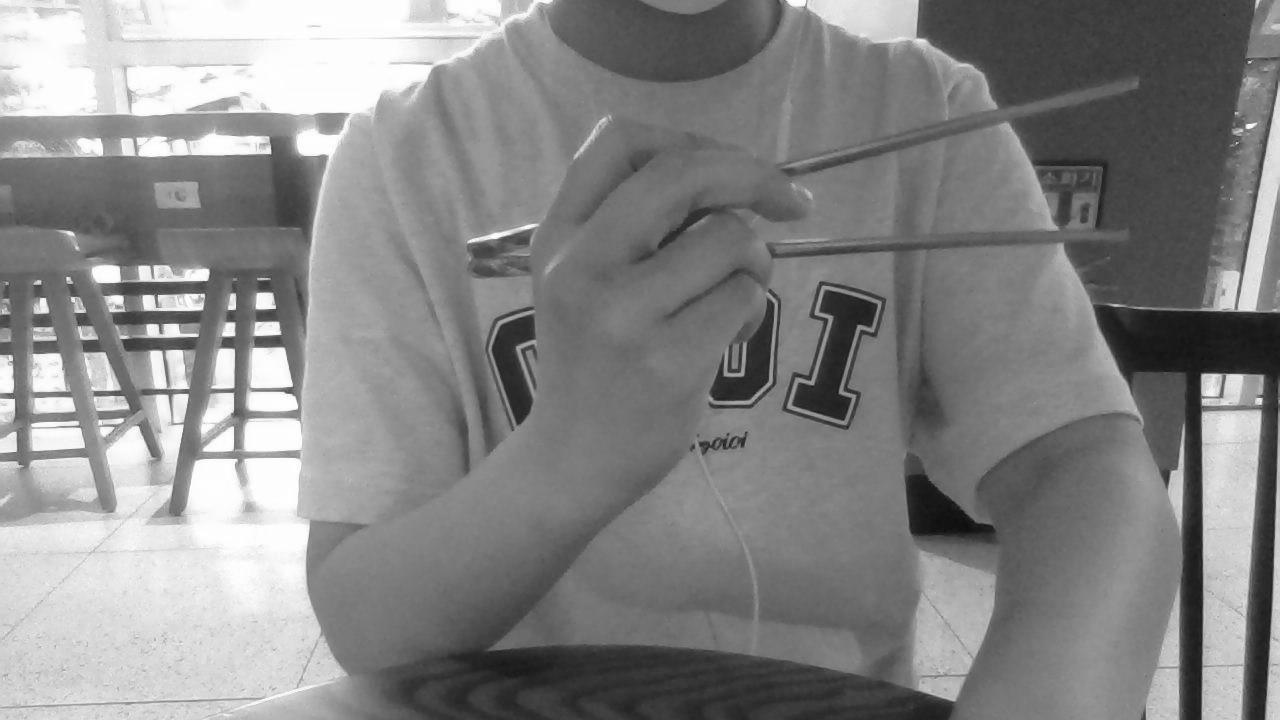chopstick: (469, 75, 1155, 260), (466, 230, 1137, 281)
hand: (530, 115, 817, 487)
